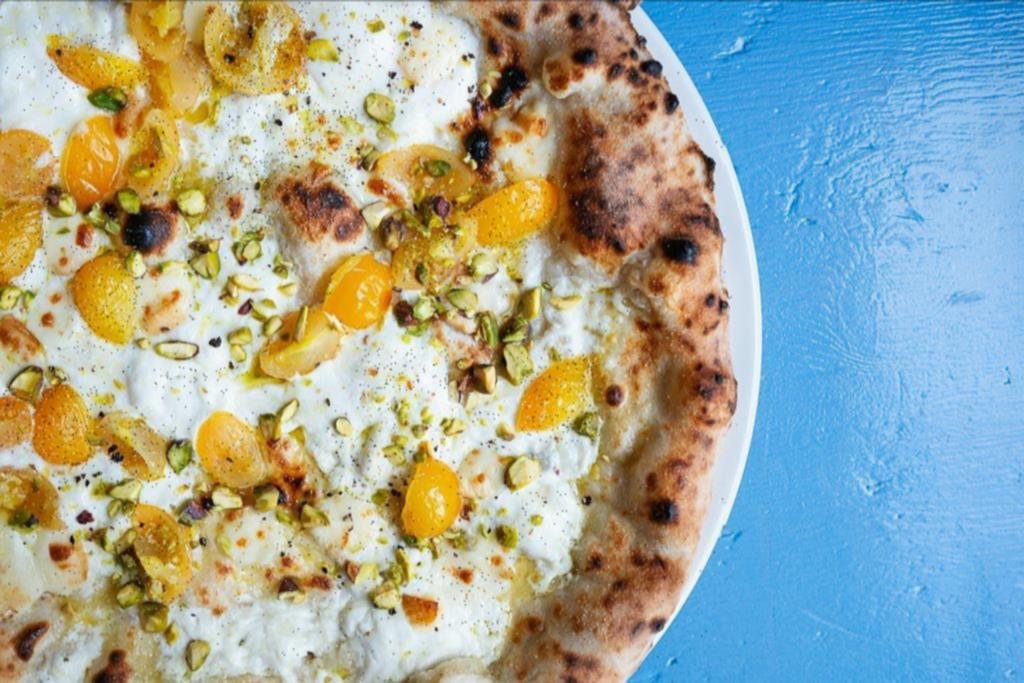Cheese: (242, 522, 397, 663), (213, 105, 354, 230), (345, 2, 471, 92), (415, 548, 512, 627), (356, 346, 448, 410), (500, 485, 573, 543), (4, 5, 42, 110), (153, 364, 230, 393), (167, 270, 197, 320)
Pizza: (2, 0, 726, 683)
Tomatoes: (203, 0, 311, 98), (70, 246, 148, 354), (522, 346, 602, 445), (126, 499, 192, 613), (474, 172, 560, 258), (190, 407, 274, 494), (250, 303, 346, 379), (392, 203, 477, 286), (396, 447, 468, 542), (98, 406, 176, 490), (46, 35, 155, 93), (63, 109, 123, 207), (128, 97, 186, 197), (39, 385, 101, 470), (334, 249, 392, 339), (2, 465, 70, 538), (0, 196, 47, 287), (2, 127, 56, 203), (135, 0, 190, 62), (2, 390, 38, 453)
